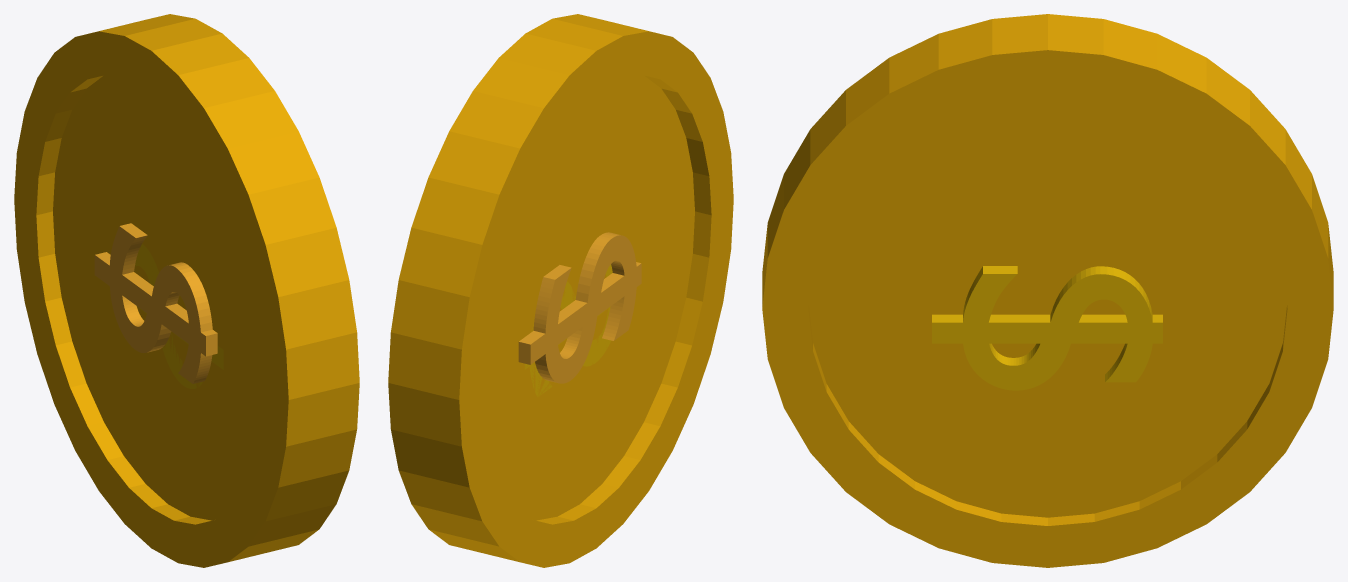
The model's file is coin.fbx.
The picture shows the model from 3 angles, left to right: view 1: azimuth 30°, elevation 25°; view 2: azimuth 150°, elevation 25°; view 3: azimuth 270°, elevation 25°; orthographic projection. The views are drawn at different scales.
Parts seen in each view (by area): view 1: Cylinder, Text.001, Text; view 2: Cylinder, Text.001, Text; view 3: Cylinder, Text.
Boxes of the visible parts, x1,y1,x2,y2 form: Cylinder: (14,14,359,567); Text.001: (94,223,217,383); Text: (135,244,223,388); Cylinder: (388,14,733,567); Text.001: (518,232,641,383); Text: (524,264,612,396); Cylinder: (762,14,1333,567); Text: (932,266,1162,390).
Bounding box in the file's own units: 29.88 × 200 × 200.
